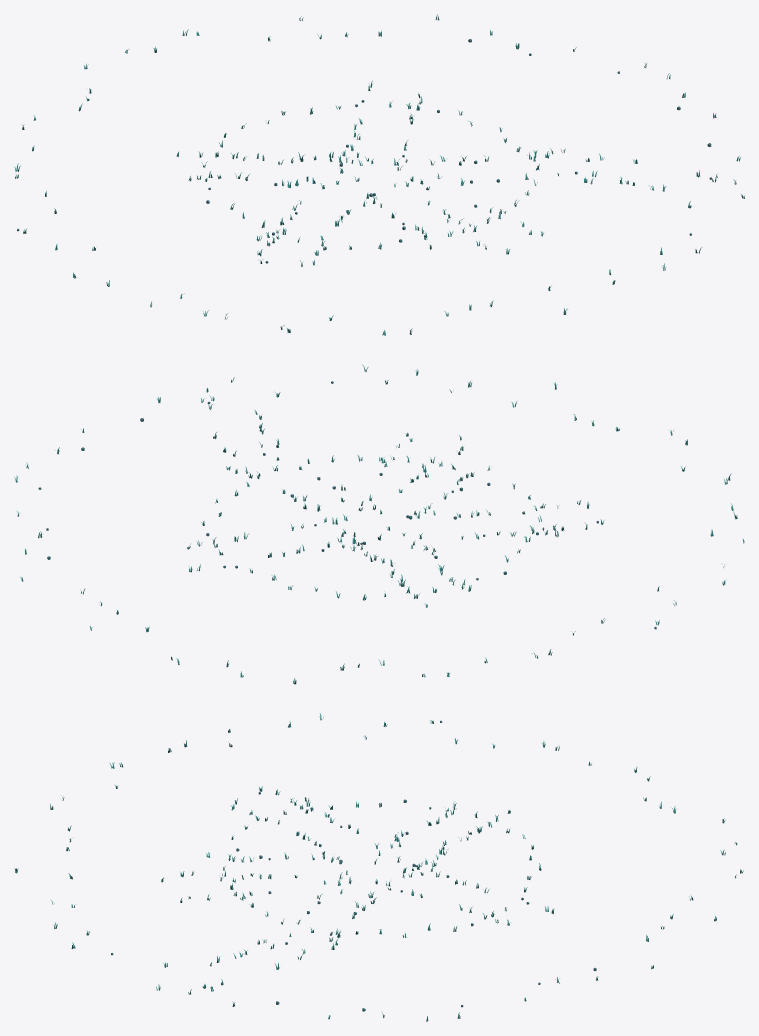
File: fol_ground_tufts_a.glb
3 views of the same model, one above another, from view 1: azimuth 30°, elevation 25°; view 2: azimuth 150°, elevation 25°; view 3: azimuth 270°, elevation 25° (orthographic). The views are drawn at different scales.
Visible parts, largest first — view 1: fol_ground_tufts_a_tufts; view 2: fol_ground_tufts_a_tufts; view 3: fol_ground_tufts_a_tufts.
Part boxes in pixels (x1,y1,x2,y2): fol_ground_tufts_a_tufts: (14, 14, 744, 335); fol_ground_tufts_a_tufts: (14, 364, 744, 684); fol_ground_tufts_a_tufts: (14, 713, 743, 1021).
Size of the model in its own units: 28.1 by 0.3093 by 28.57.
